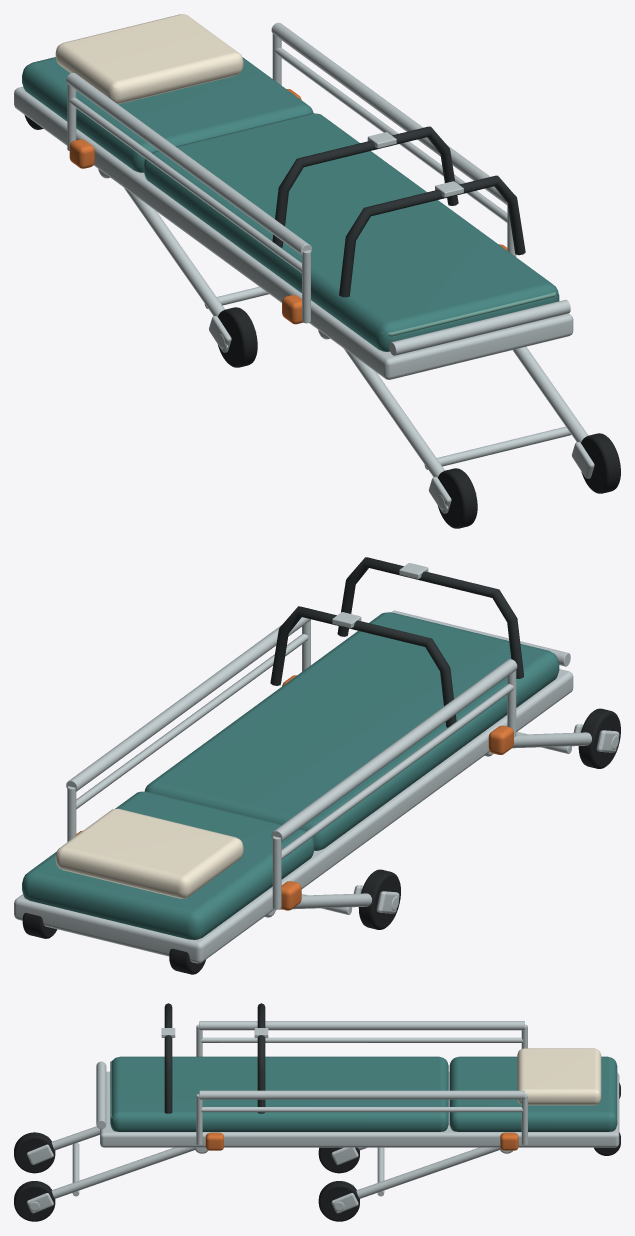
Rendered from BraunCot.fbx.
The picture shows the model from 3 angles, top to bottom: view 1: azimuth 30°, elevation 25°; view 2: azimuth 150°, elevation 25°; view 3: azimuth 270°, elevation 25°; orthographic projection. The views are drawn at different scales.
Visible parts, largest first — view 1: BraunCot; view 2: BraunCot; view 3: BraunCot.
Part boxes in pixels (bbox=[...]): BraunCot: bbox=[14, 14, 620, 528]; BraunCot: bbox=[14, 557, 620, 974]; BraunCot: bbox=[14, 1003, 620, 1221].
Bounding box in the file's own units: 69 × 72.93 × 235.
